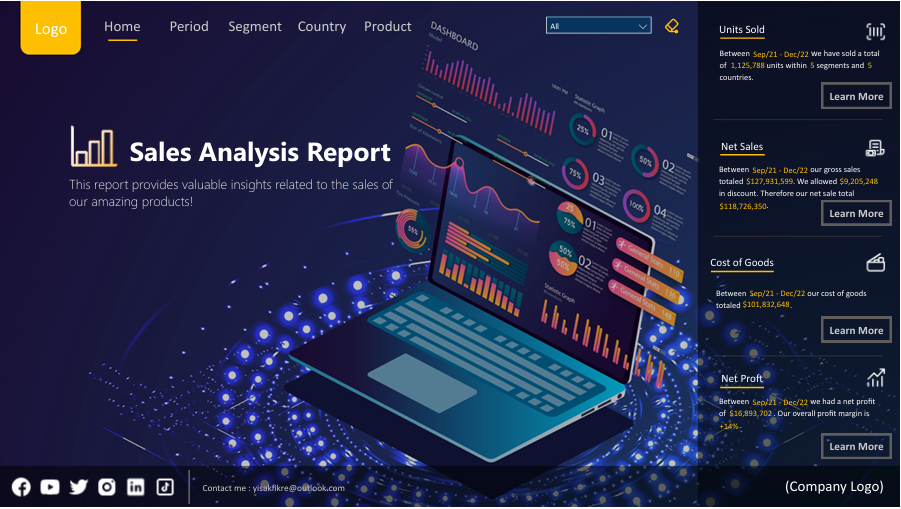

What the dashboard file says about the page in this screenshot:
{"tool":"powerbi","page":{"name":"Home","canvas":[1280,720],"ordinal":0},"visuals":[{"type":"actionButton","title":"Button Clear Managers","box":[935.7,21.4,37.1,24.3],"z":0,"group":"g11"},{"type":"textbox","box":[1017.7,59.1,240,101],"z":0,"group":"g3"},{"type":"actionButton","title":"Button_Learn_Unit_Sold","box":[1167.5,115,100,36.2],"z":0,"group":"g12"},{"type":"textbox","box":[1017.6,224.1,240,101],"z":0,"group":"g4"},{"type":"textbox","title":"Text box_Info","box":[91.5,241.4,472.9,67.1],"z":0,"group":"g9"},{"type":"actionButton","title":"Button_Learn_Net_Sales","box":[1167.5,281.3,100,36.2],"z":0,"group":"g10"},{"type":"textbox","box":[1013,400.1,240,48],"z":0,"group":"g5"},{"type":"actionButton","title":"Button_Learn_COGs","box":[1167.5,447.6,100,36.2],"z":0,"group":"g8"},{"type":"group","id":"g1","title":"Right Pane_Net_Profit","box":[1005,515,263.8,140.1],"z":0,"group":"g7"},{"type":"textbox","box":[1017.6,554.1,240,101],"z":0,"group":"g6"},{"type":"actionButton","title":"Button_Learn_Net_Profit","box":[1167.5,613.8,100,36.2],"z":0,"group":"g1"},{"type":"group","id":"g2","title":"Footer","box":[9.3,666,1259,48.2],"z":0},{"type":"textbox","title":"Text box_Logo","box":[1105,670,163.3,44.2],"z":0,"group":"g2"},{"type":"group","id":"g3","title":"Unit_Sold","box":[1017.7,55,240.2,105.1],"z":500,"group":"g12"},{"type":"group","id":"g4","title":"Net_Sales","box":[1006.4,220,269.3,105.1],"z":500,"group":"g10"},{"type":"group","id":"g5","title":"COGs","box":[1013,395.1,240,53],"z":500,"group":"g8"},{"type":"group","id":"g6","title":"Net_Profit","box":[1006.3,550,251.3,105.1],"z":500,"group":"g1"},{"type":"slicer","title":"Slicer Managers","fields":{"Values":["DIM_MANAGERS.Manager Name"]},"box":[765.7,11.4,170,45.7],"z":1000,"group":"g11"},{"type":"group","id":"g7","title":"Right_Pane","box":[1005,21.7,270.8,633.5],"z":1000},{"type":"actionButton","title":"Icon_Unit_Sold","box":[1226.2,22.5,42.5,38.8],"z":1000,"group":"g12"},{"type":"cardVisual","title":"Card_Date","fields":{"Data":["Measure.M_Date Selection"]},"box":[1053.7,55,115,30],"z":1000,"group":"g3"},{"type":"textbox","title":"Text box_Title","box":[178,181,395.7,60],"z":1000,"group":"g9"},{"type":"actionButton","title":"Icon_Net_Sales","box":[1226.2,186.7,42.5,38.8],"z":1000,"group":"g10"},{"type":"group","id":"g8","title":"Right_Pane_COGs","box":[1005,350.9,263.8,132.9],"z":1000,"group":"g7"},{"type":"actionButton","title":"Icon_COGs","box":[1226.2,350.9,42.5,38.8],"z":1000,"group":"g8"},{"type":"actionButton","title":"Icon_Net_Profit","box":[1226.2,515,42.5,38.8],"z":1000,"group":"g1"},{"type":"cardVisual","title":"Card_Date","fields":{"Data":["Measure.M_Date Selection"]},"box":[1053.6,550,115,30],"z":1000,"group":"g6"},{"type":"actionButton","title":"Button_Contact_me","box":[283.3,670,230.6,40],"z":1000,"group":"g2"},{"type":"actionButton","title":"Button_Product","box":[501.4,14.3,100,40],"z":2000,"group":"g11"},{"type":"shape","title":"Line_Unit_Sold","box":[1023.6,45.7,63.1,11.2],"z":2000,"group":"g12"},{"type":"cardVisual","title":"Card_Unit_Sold","fields":{"Data":["Measure.M_Units Sold"]},"box":[1021.5,71.4,85,30],"z":2000,"group":"g3"},{"type":"group","id":"g9","title":"Main","box":[72.9,151.4,500.9,157.1],"z":2000},{"type":"actionButton","title":"Button_Main","box":[72.9,151.4,121.4,107.1],"z":2000,"group":"g9"},{"type":"group","id":"g10","title":"Right_Pane_Net_Sales","box":[1005,186.7,270.8,138.5],"z":2000,"group":"g7"},{"type":"shape","title":"Line_Net_Sales","box":[1023.6,211.5,63.3,11.1],"z":2000,"group":"g10"},{"type":"shape","title":"Line_COGs","box":[1011.4,377.2,88.6,12.4],"z":2000,"group":"g8"},{"type":"cardVisual","title":"Card_COGs","fields":{"Data":["Measure.M_Cost Of Goods"]},"box":[1039.3,411.2,101,30],"z":2000,"group":"g5"},{"type":"shape","title":"Line_Net_Profit","box":[1023.6,542.9,62.5,10.7],"z":2000,"group":"g1"},{"type":"cardVisual","title":"Card_Net Profit","fields":{"Data":["Measure.M_Profit"]},"box":[1020.7,566.4,96.4,30],"z":2000,"group":"g6"},{"type":"shape","title":"Shape_Line_Divider","box":[257,666,22,48],"z":2000,"group":"g2"},{"type":"cardVisual","title":"Card_Date","fields":{"Data":["Measure.M_Date Selection"]},"box":[1049,395.1,115,30],"z":2500,"group":"g5"},{"type":"group","id":"g11","title":"Header","box":[30,0,942.9,68.9],"z":3000},{"type":"actionButton","title":"Button_Country","box":[406.8,14.3,100,40],"z":3000,"group":"g11"},{"type":"group","id":"g12","title":"Right_Pane_Unit_Sold","box":[1005,21.7,263.8,138.5],"z":3000,"group":"g7"},{"type":"actionButton","title":"Button_Unit_Sold","box":[1005,21.7,100,31.7],"z":3000,"group":"g12"},{"type":"cardVisual","title":"Card_Segment","fields":{"Data":["Measure.M_# of Distinct Segments"]},"box":[1134.3,71.4,42.9,30],"z":3000,"group":"g3"},{"type":"actionButton","title":"Button_Net_Sales","box":[1005,188.2,100,31.1],"z":3000,"group":"g10"},{"type":"actionButton","title":"Button_COGs","box":[1005,354.1,100,31.1],"z":3000,"group":"g8"},{"type":"actionButton","title":"Button_Net_Profit","box":[1005,520,100,31.1],"z":3000,"group":"g1"},{"type":"actionButton","title":"Button_Tiktok","box":[213.9,670,41.5,40],"z":3000,"group":"g2"},{"type":"actionButton","title":"Button_Segment","box":[312.1,14.3,100,40],"z":4000,"group":"g11"},{"type":"cardVisual","title":"Card_Countries","fields":{"Data":["Measure.M_# of Distinct Countries"]},"box":[1217.2,71.4,40.7,30],"z":4000,"group":"g3"},{"type":"cardVisual","title":"Card_Net Sale","fields":{"Data":["Measure.M_Net Sales"]},"box":[1006.4,270.7,103.6,30],"z":4000,"group":"g4"},{"type":"cardVisual","title":"Card_Profit Margin","fields":{"Data":["Measure.M_Profit Margin Formatted"]},"box":[1006.3,583.6,62.9,30],"z":4000,"group":"g6"},{"type":"actionButton","title":"Button_LinkedIn","box":[172.8,670,41.5,40],"z":4000,"group":"g2"},{"type":"cardVisual","title":"Card_Discount","fields":{"Data":["Measure.M_Discounts"]},"box":[1177.1,236.4,98.6,30],"z":4125,"group":"g4"},{"type":"cardVisual","title":"Card_Gross Sale","fields":{"Data":["Measure.M_Gross Sales"]},"box":[1044,236.4,102.1,30],"z":4250,"group":"g4"},{"type":"cardVisual","title":"Card_Date","fields":{"Data":["Measure.M_Date Selection"]},"box":[1053.6,220,115,30],"z":4500,"group":"g4"},{"type":"actionButton","title":"Button_Period","box":[217.5,14.3,100,40],"z":5000,"group":"g11"},{"type":"actionButton","title":"Button_Instagram","box":[131.7,670,41.5,40],"z":5000,"group":"g2"},{"type":"shape","title":"Shape_Home_Active","box":[152.5,42,41.5,24.5],"z":6000,"group":"g11"},{"type":"actionButton","title":"Button_Twitter","box":[91.4,670,40.8,40],"z":6000,"group":"g2"},{"type":"actionButton","title":"Button_Home","box":[122.9,14.3,100,40],"z":7000,"group":"g11"},{"type":"actionButton","title":"Button_Youtube","box":[50.3,670,41.5,40],"z":7000,"group":"g2"},{"type":"textbox","title":"Text box_Logo","box":[30,0,82.9,68.9],"z":8000,"group":"g11"},{"type":"actionButton","title":"Button_Facebook","box":[9.3,670,41.4,40],"z":8000,"group":"g2"}]}

Visuals, with their boxes in screenshot pixels (x1, y1, x2, y2), scaled from the page's 1280x720 canvas onto the 901x509 screenshot:
"Button Clear Managers" actionButton: locate(659, 15, 685, 32)
textbox: locate(716, 42, 885, 113)
"Button_Learn_Unit_Sold" actionButton: locate(822, 81, 892, 107)
textbox: locate(716, 158, 885, 230)
"Text box_Info" textbox: locate(64, 171, 397, 218)
"Button_Learn_Net_Sales" actionButton: locate(822, 199, 892, 224)
textbox: locate(713, 283, 882, 317)
"Button_Learn_COGs" actionButton: locate(822, 316, 892, 342)
"Right Pane_Net_Profit" group: locate(707, 364, 893, 463)
textbox: locate(716, 392, 885, 463)
"Button_Learn_Net_Profit" actionButton: locate(822, 434, 892, 460)
"Footer" group: locate(7, 471, 893, 505)
"Text box_Logo" textbox: locate(778, 474, 893, 505)
"Unit_Sold" group: locate(716, 39, 885, 113)
"Net_Sales" group: locate(708, 156, 898, 230)
"COGs" group: locate(713, 279, 882, 317)
"Net_Profit" group: locate(708, 389, 885, 463)
"Slicer Managers" slicer: locate(539, 8, 659, 40)
"Right_Pane" group: locate(707, 15, 898, 463)
"Icon_Unit_Sold" actionButton: locate(863, 16, 893, 43)
"Card_Date" cardVisual: locate(742, 39, 823, 60)
"Text box_Title" textbox: locate(125, 128, 404, 170)
"Icon_Net_Sales" actionButton: locate(863, 132, 893, 159)
"Right_Pane_COGs" group: locate(707, 248, 893, 342)
"Icon_COGs" actionButton: locate(863, 248, 893, 275)
"Icon_Net_Profit" actionButton: locate(863, 364, 893, 392)
"Card_Date" cardVisual: locate(742, 389, 823, 410)
"Button_Contact_me" actionButton: locate(199, 474, 362, 502)
"Button_Product" actionButton: locate(353, 10, 423, 38)
"Line_Unit_Sold" shape: locate(721, 32, 765, 40)
"Card_Unit_Sold" cardVisual: locate(719, 50, 779, 72)
"Main" group: locate(51, 107, 404, 218)
"Button_Main" actionButton: locate(51, 107, 137, 183)
"Right_Pane_Net_Sales" group: locate(707, 132, 898, 230)
"Line_Net_Sales" shape: locate(721, 150, 765, 157)
"Line_COGs" shape: locate(712, 267, 774, 275)
"Card_COGs" cardVisual: locate(732, 291, 803, 312)
"Line_Net_Profit" shape: locate(721, 384, 765, 391)
"Card_Net Profit" cardVisual: locate(718, 400, 786, 422)
"Shape_Line_Divider" shape: locate(181, 471, 196, 505)
"Card_Date" cardVisual: locate(738, 279, 819, 301)
"Header" group: locate(21, 0, 685, 49)
"Button_Country" actionButton: locate(286, 10, 357, 38)
"Right_Pane_Unit_Sold" group: locate(707, 15, 893, 113)
"Button_Unit_Sold" actionButton: locate(707, 15, 778, 38)
"Card_Segment" cardVisual: locate(798, 50, 829, 72)
"Button_Net_Sales" actionButton: locate(707, 133, 778, 155)
"Button_COGs" actionButton: locate(707, 250, 778, 272)
"Button_Net_Profit" actionButton: locate(707, 368, 778, 390)
"Button_Tiktok" actionButton: locate(151, 474, 180, 502)
"Button_Segment" actionButton: locate(220, 10, 290, 38)
"Card_Countries" cardVisual: locate(857, 50, 885, 72)
"Card_Net Sale" cardVisual: locate(708, 191, 781, 213)
"Card_Profit Margin" cardVisual: locate(708, 413, 753, 434)
"Button_LinkedIn" actionButton: locate(122, 474, 151, 502)
"Card_Discount" cardVisual: locate(829, 167, 898, 188)
"Card_Gross Sale" cardVisual: locate(735, 167, 807, 188)
"Card_Date" cardVisual: locate(742, 156, 823, 177)
"Button_Period" actionButton: locate(153, 10, 223, 38)
"Button_Instagram" actionButton: locate(93, 474, 122, 502)
"Shape_Home_Active" shape: locate(107, 30, 137, 47)
"Button_Twitter" actionButton: locate(64, 474, 93, 502)
"Button_Home" actionButton: locate(87, 10, 157, 38)
"Button_Youtube" actionButton: locate(35, 474, 65, 502)
"Text box_Logo" textbox: locate(21, 0, 79, 49)
"Button_Facebook" actionButton: locate(7, 474, 36, 502)
